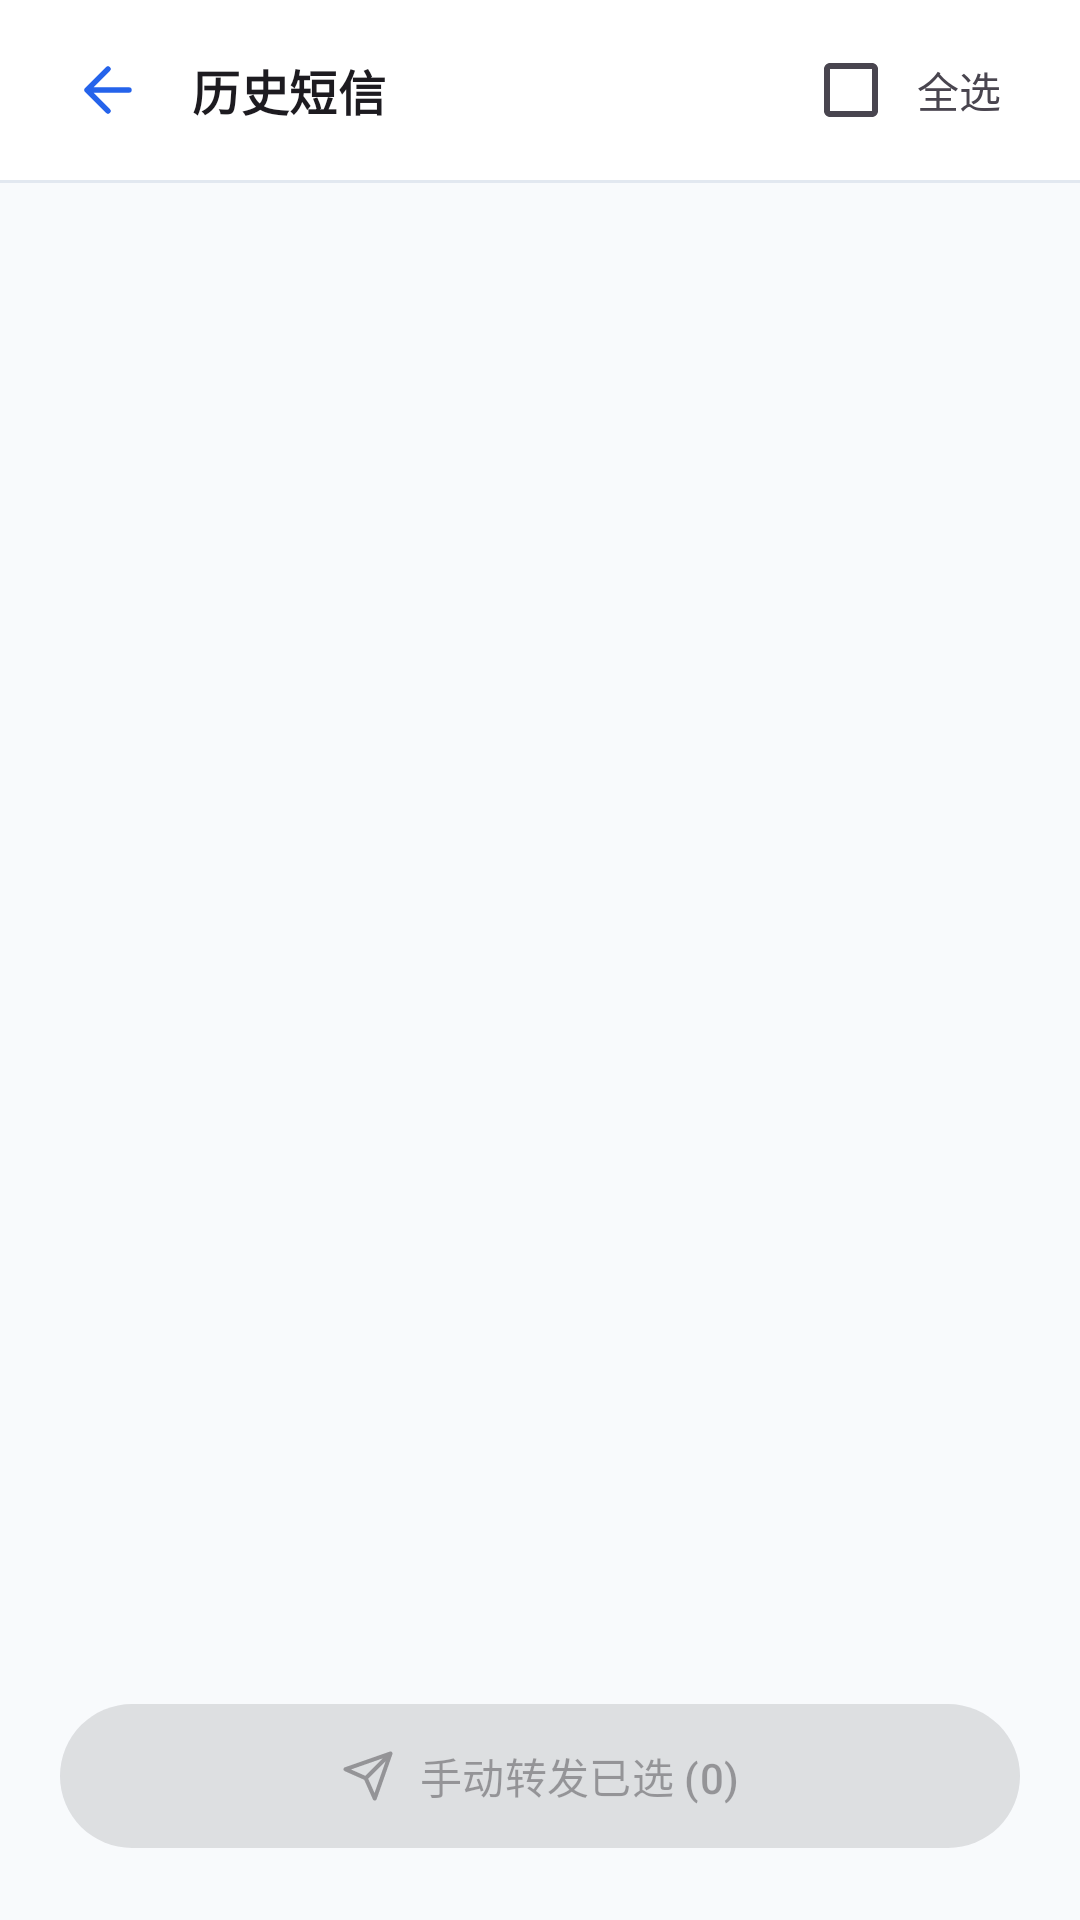

Where icons sit on this 1080*1920 app screen, as {"left": x1, "top": y1, "right": x2, "bottom": y2}:
返回: {"left": 84, "top": 66, "right": 132, "bottom": 114}
